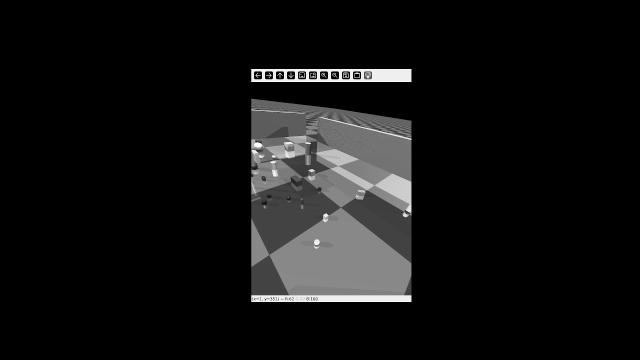cilindro: (302, 139, 313, 157), (269, 159, 281, 171), (404, 199, 412, 215), (260, 198, 268, 206), (317, 186, 324, 193), (301, 195, 304, 206)
cuadrado: (280, 141, 299, 152), (308, 167, 317, 176), (323, 213, 332, 221), (266, 192, 273, 199)
esfera: (312, 237, 322, 247), (246, 162, 260, 169), (253, 142, 263, 151), (284, 195, 293, 200), (271, 154, 278, 159), (260, 175, 267, 180), (254, 139, 258, 142), (259, 140, 265, 142)
rectangulo: (289, 174, 305, 186), (251, 150, 261, 158), (357, 189, 368, 196)
